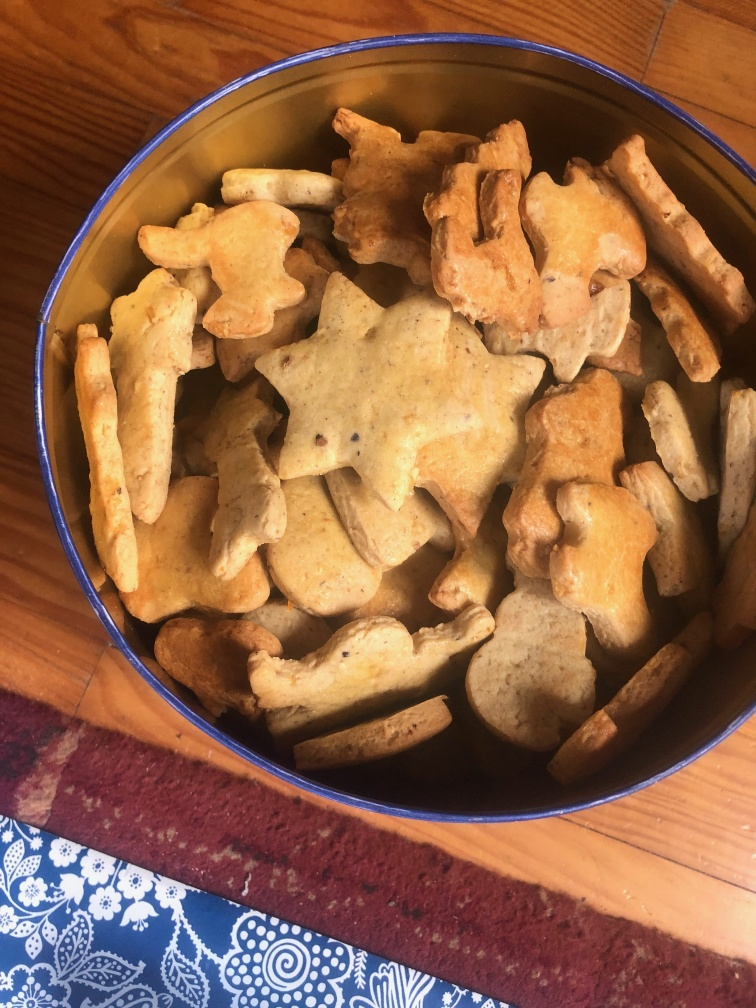lamb: (552, 477, 661, 650)
shooting star: (106, 267, 199, 516), (74, 316, 146, 604), (200, 374, 289, 568)
snowman: (245, 606, 494, 720), (513, 358, 625, 582)
squirrel: (138, 198, 308, 338)
star: (256, 267, 481, 506)
